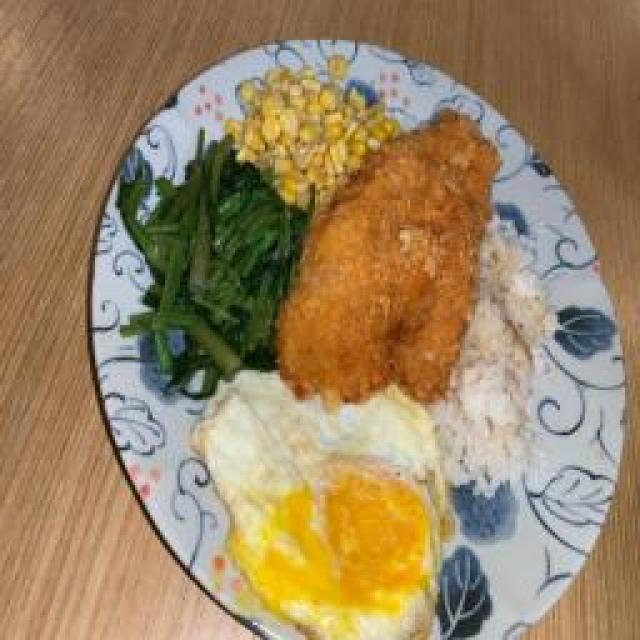Wet Waste: (200, 385, 445, 640), (290, 105, 490, 395), (138, 152, 292, 372), (450, 240, 548, 485)
